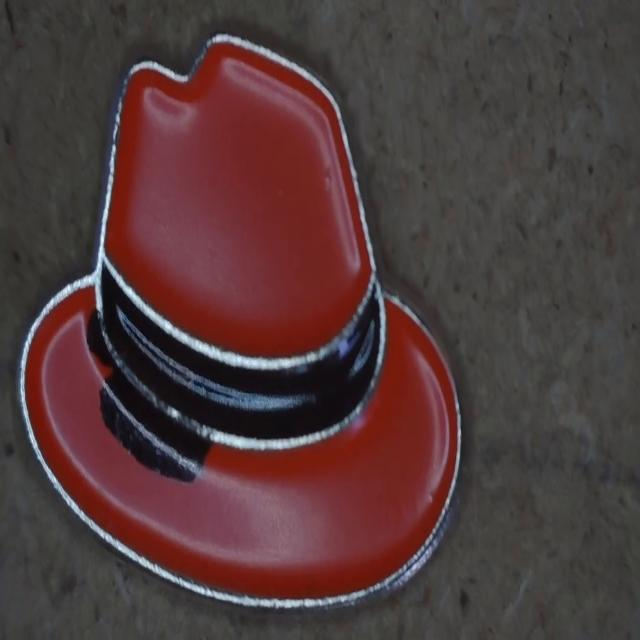Hatband: (100, 262, 385, 447)
Paint_Leak: (100, 362, 209, 481), (88, 311, 111, 362)
RedHatPin: (20, 36, 460, 606)
